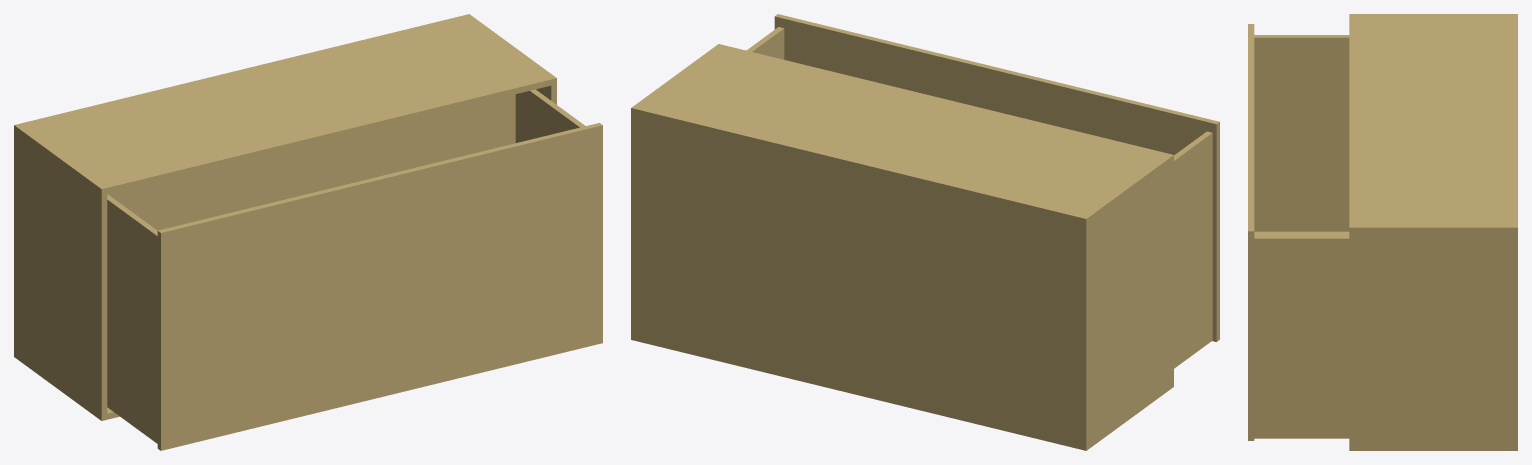
The model's file is meuble_69130d8284b93.glb.
The picture shows the model from 3 angles, left to right: view 1: azimuth 30°, elevation 25°; view 2: azimuth 150°, elevation 25°; view 3: azimuth 270°, elevation 25°; orthographic projection. The views are drawn at different scales.
Visible parts, largest first — view 1: world; view 2: world; view 3: world.
Boxes of the visible parts, x1,y1,x2,y2 form: world: (14, 14, 602, 450); world: (631, 14, 1219, 450); world: (1248, 14, 1517, 450).
Bounding box in the file's own units: 1.5 × 0.73 × 0.8.
